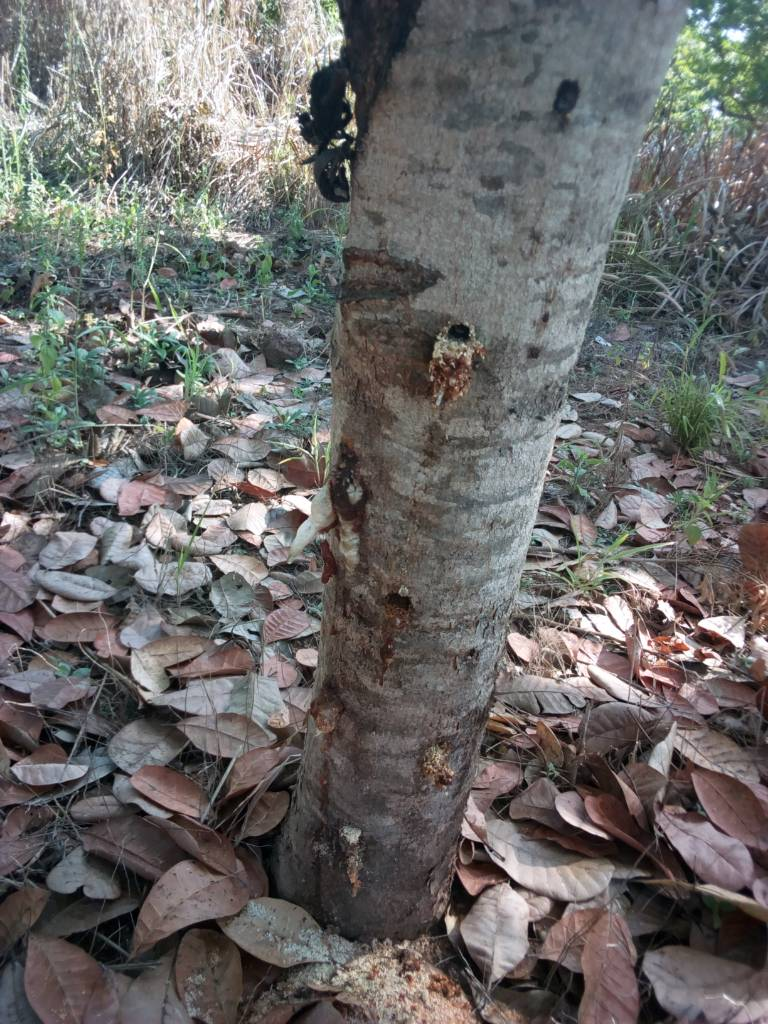Apate terebrans: (263, 292, 547, 835)
